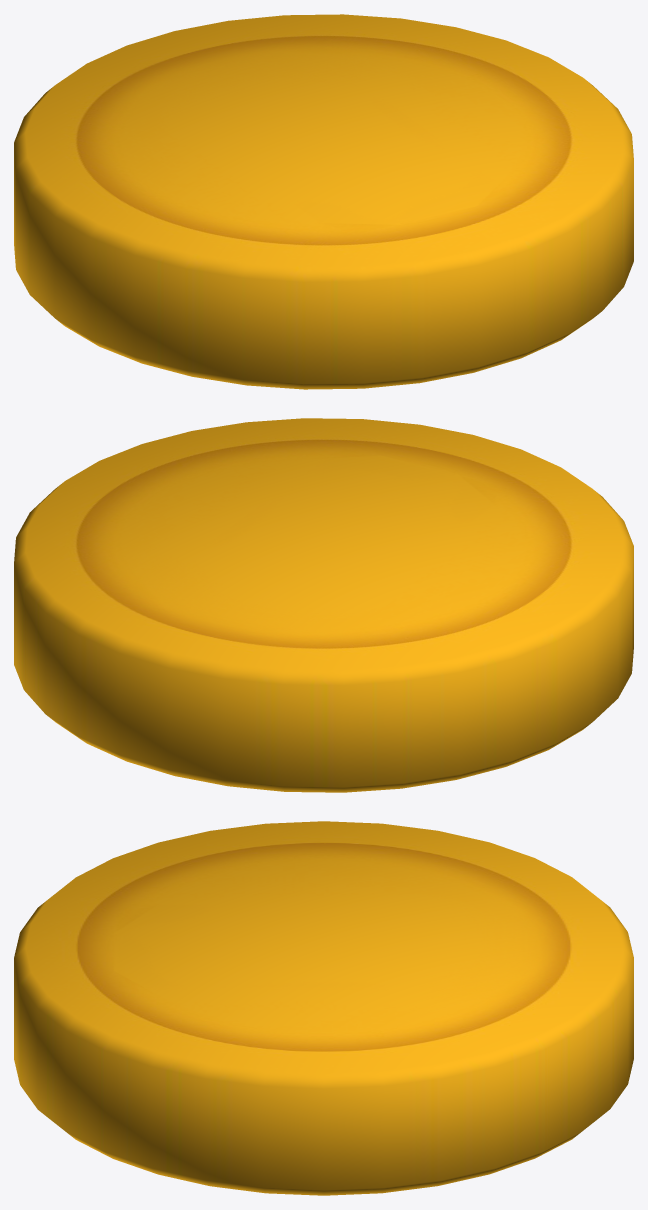
File: Coin.fbx
3 renders of one model, top to bottom at view 1: azimuth 30°, elevation 25°; view 2: azimuth 150°, elevation 25°; view 3: azimuth 270°, elevation 25°, orthographic.
Parts seen in each view (by area): view 1: Coin; view 2: Coin; view 3: Coin.
Part boxes in pixels (x1,y1,x2,y2): Coin: [14, 14, 633, 389]; Coin: [14, 418, 633, 792]; Coin: [14, 821, 633, 1195].
Size of the model in its own units: 50 by 10.92 by 50.
1 material, 1 textured.
